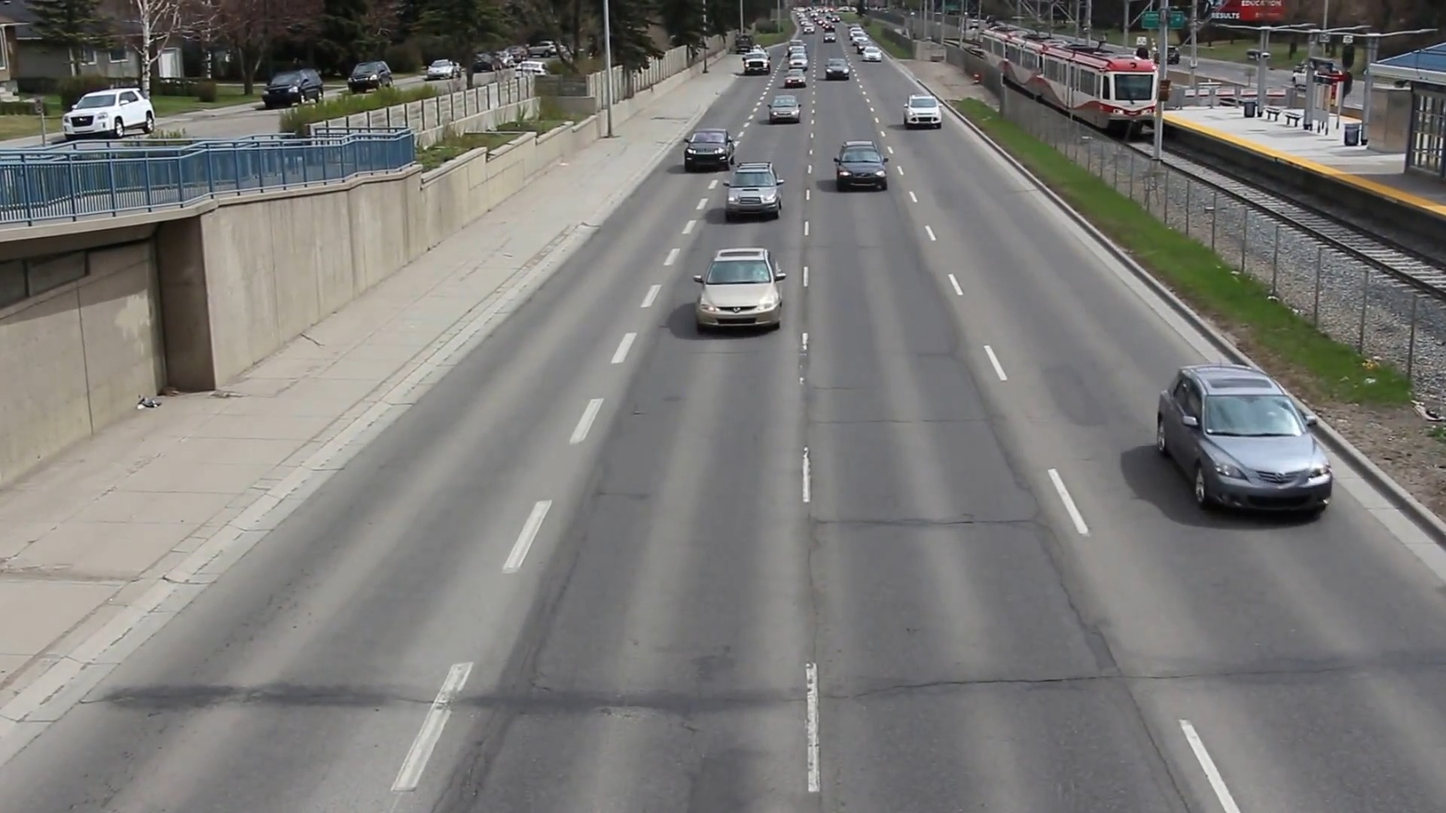car: (1156, 360, 1334, 523), (693, 247, 789, 333), (833, 140, 893, 199), (727, 170, 784, 218), (682, 128, 733, 167), (900, 96, 941, 130)
